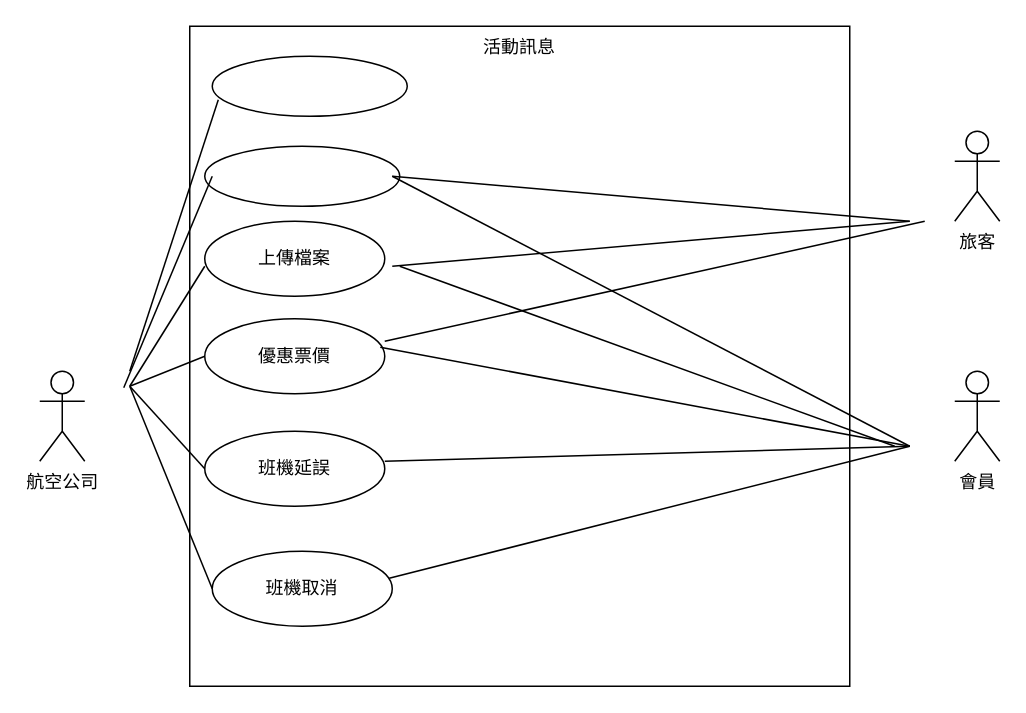
Image size: 1026x713. Some labels were removed from this diagram. The centre of each missing label's shape, as x and y in pixels:
"上傳資料" belongs at point (301, 175).
"公司內部訊息" belongs at point (309, 85).
